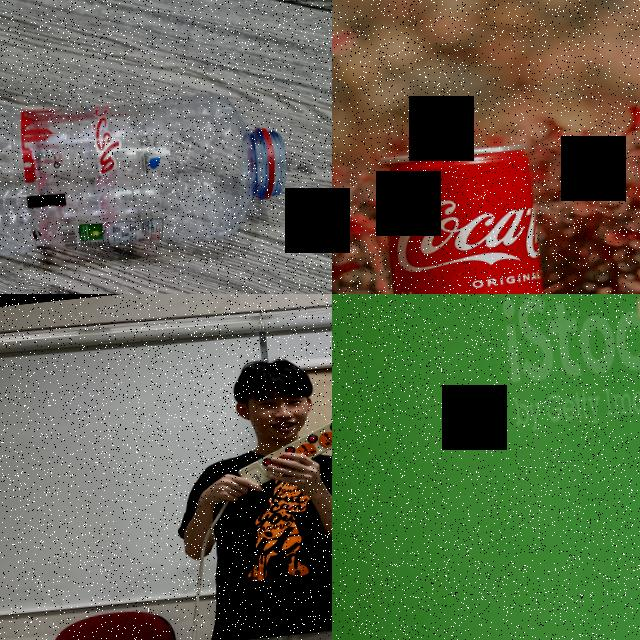bottle: (0, 74, 294, 272)
can: (374, 138, 557, 294)
